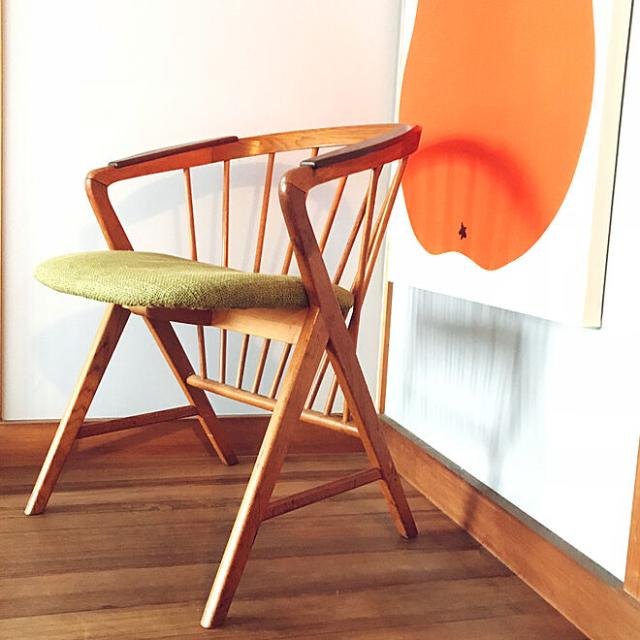chair vintage: (20, 103, 432, 632)
